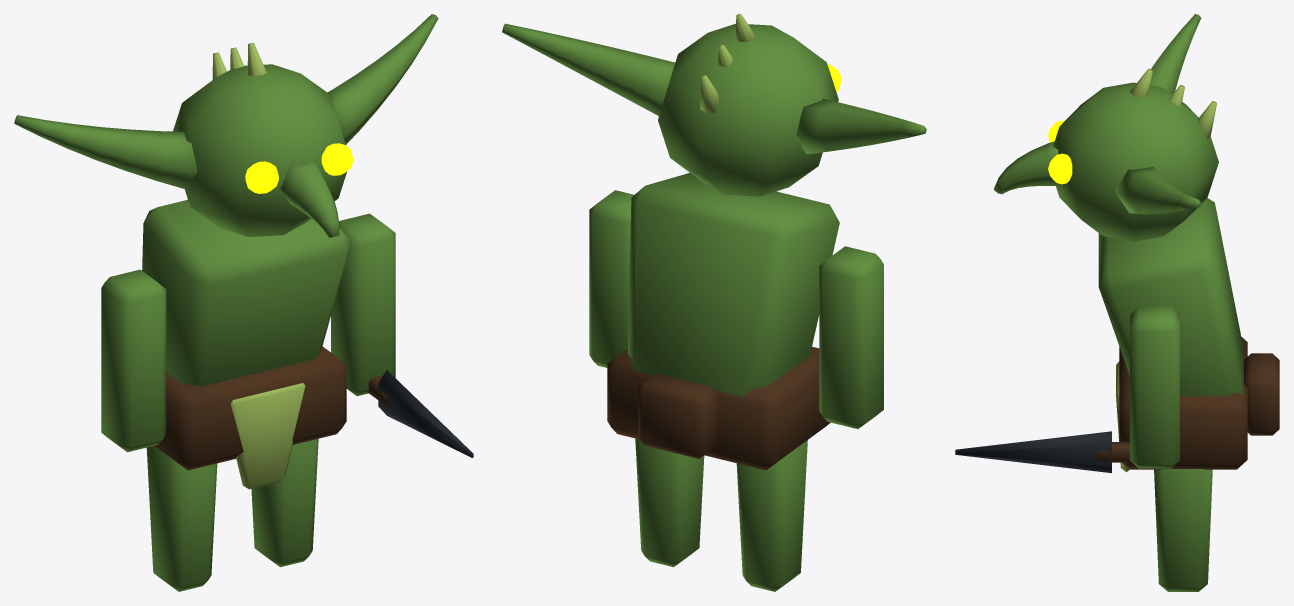
Rendered from goblin.glb.
3 views of the same model, side by side, from view 1: azimuth 30°, elevation 25°; view 2: azimuth 150°, elevation 25°; view 3: azimuth 270°, elevation 25° (orthographic). The views are drawn at different scales.
Visible parts, largest first — view 1: Body, Head, LeftArm, RightArm, LeftLeg, RightLeg, Weapon; view 2: Body, Head, LeftArm, LeftLeg, RightLeg, RightArm, Tail; view 3: Head, Body, RightArm, RightLeg, Weapon, Tail.
Boxes of the visible parts, box(x1,y1,x2,y2) form: Body: box(142, 199, 351, 489); Head: box(14, 14, 438, 237); LeftArm: box(101, 269, 166, 452); RightArm: box(331, 213, 395, 396); LeftLeg: box(146, 446, 217, 591); RightLeg: box(251, 438, 318, 567); Weapon: box(367, 370, 473, 457); Body: box(607, 173, 839, 470); Head: box(502, 14, 926, 196); LeftArm: box(819, 246, 883, 428); LeftLeg: box(736, 440, 807, 591); RightLeg: box(635, 438, 704, 567); RightArm: box(589, 190, 634, 367); Tail: box(638, 373, 717, 458); Head: box(994, 14, 1218, 241); Body: box(1098, 198, 1247, 472); RightArm: box(1130, 306, 1179, 468); RightLeg: box(1154, 469, 1212, 591); Weapon: box(955, 431, 1131, 473); Tail: box(1244, 353, 1279, 435).
Size of the model in its own units: 1.25 by 1.53 by 0.91.
